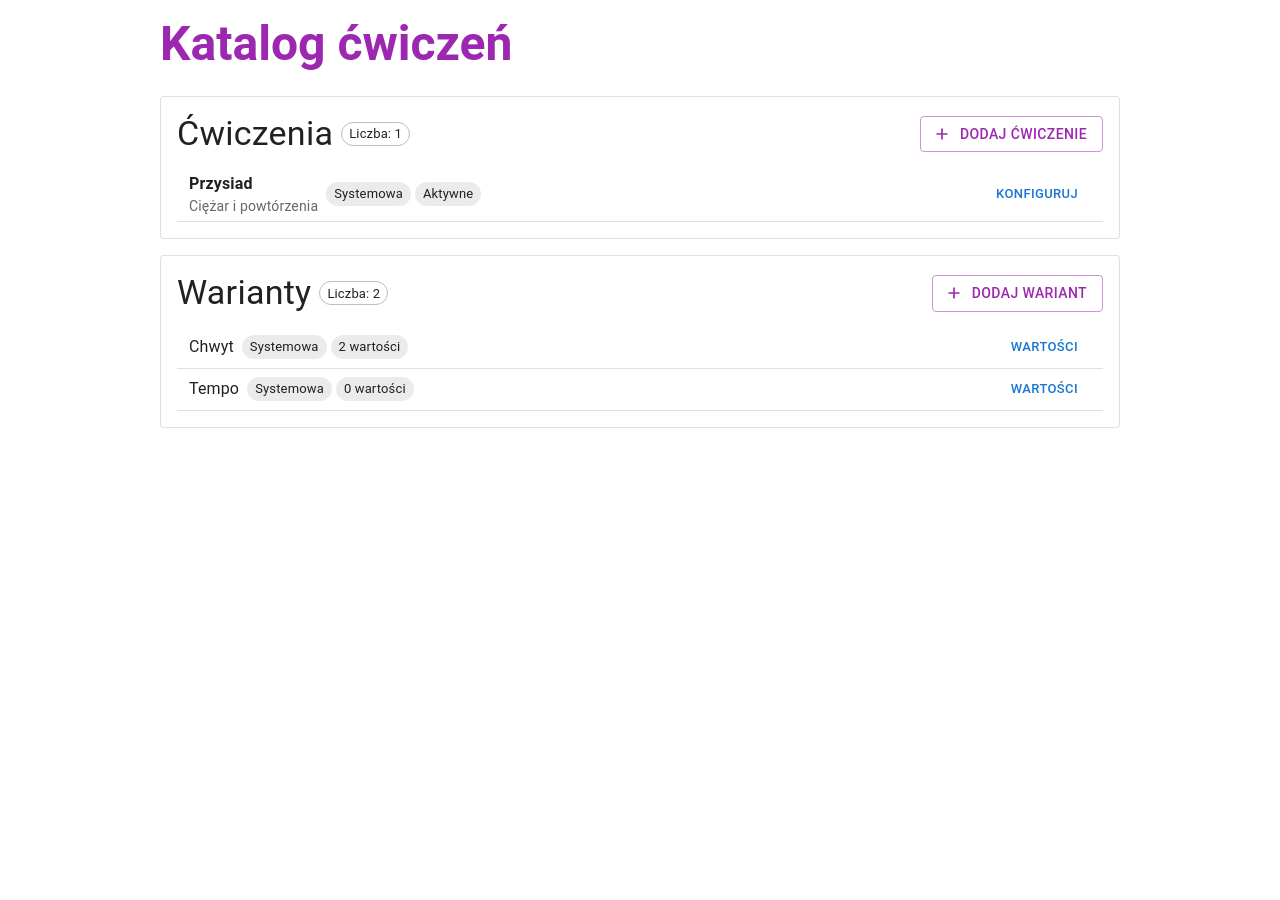
it: StrengthTrainingCatalogPage › nie wysyła pustej rodziny ćwiczeń i pokazuje błąd walidacji
Click the button "Dodaj ćwiczenie" at point(1011, 134), box x1=920 y1=116 x2=1103 y2=152
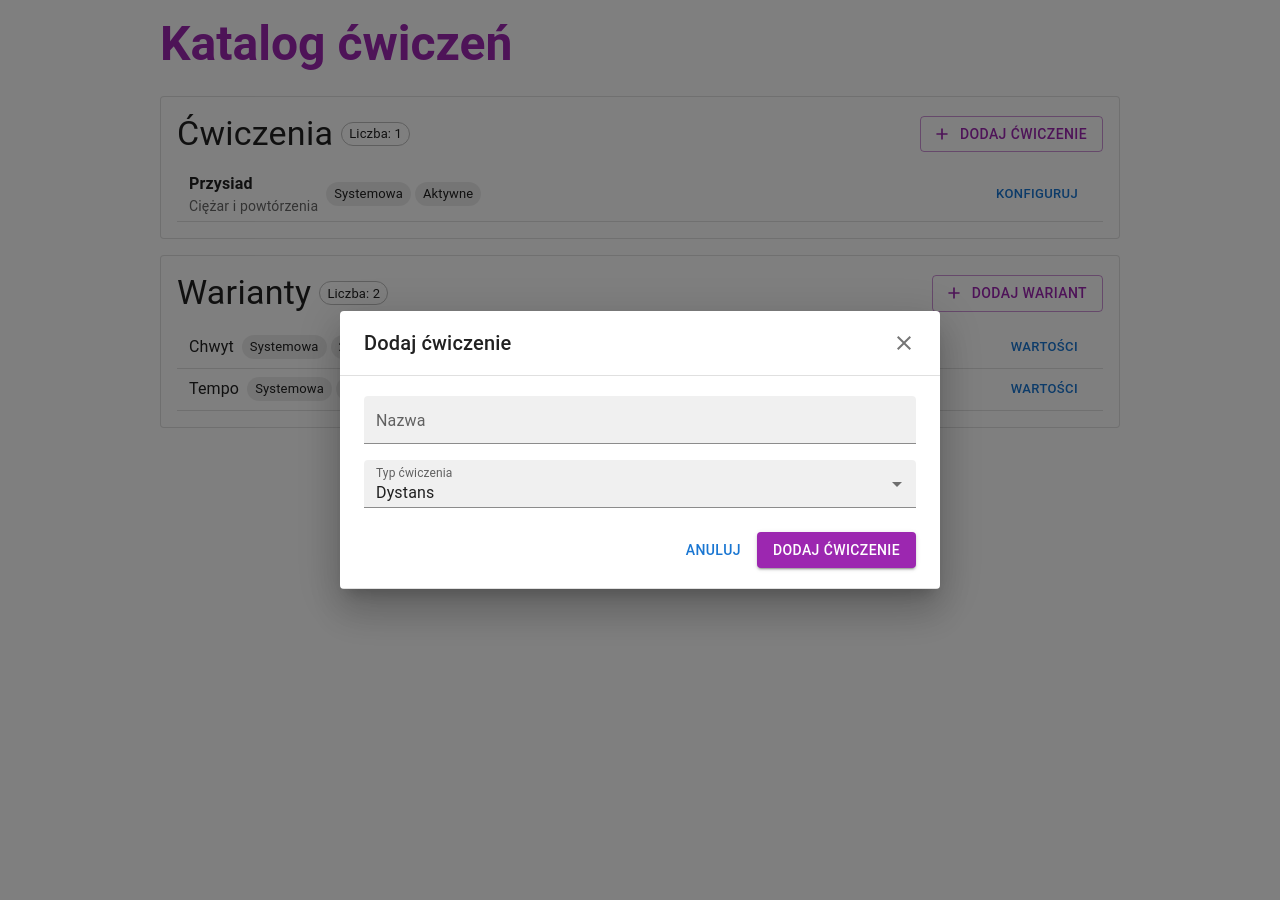
Click the button "Dodaj ćwiczenie" at point(836, 550), box x1=757 y1=532 x2=916 y2=568
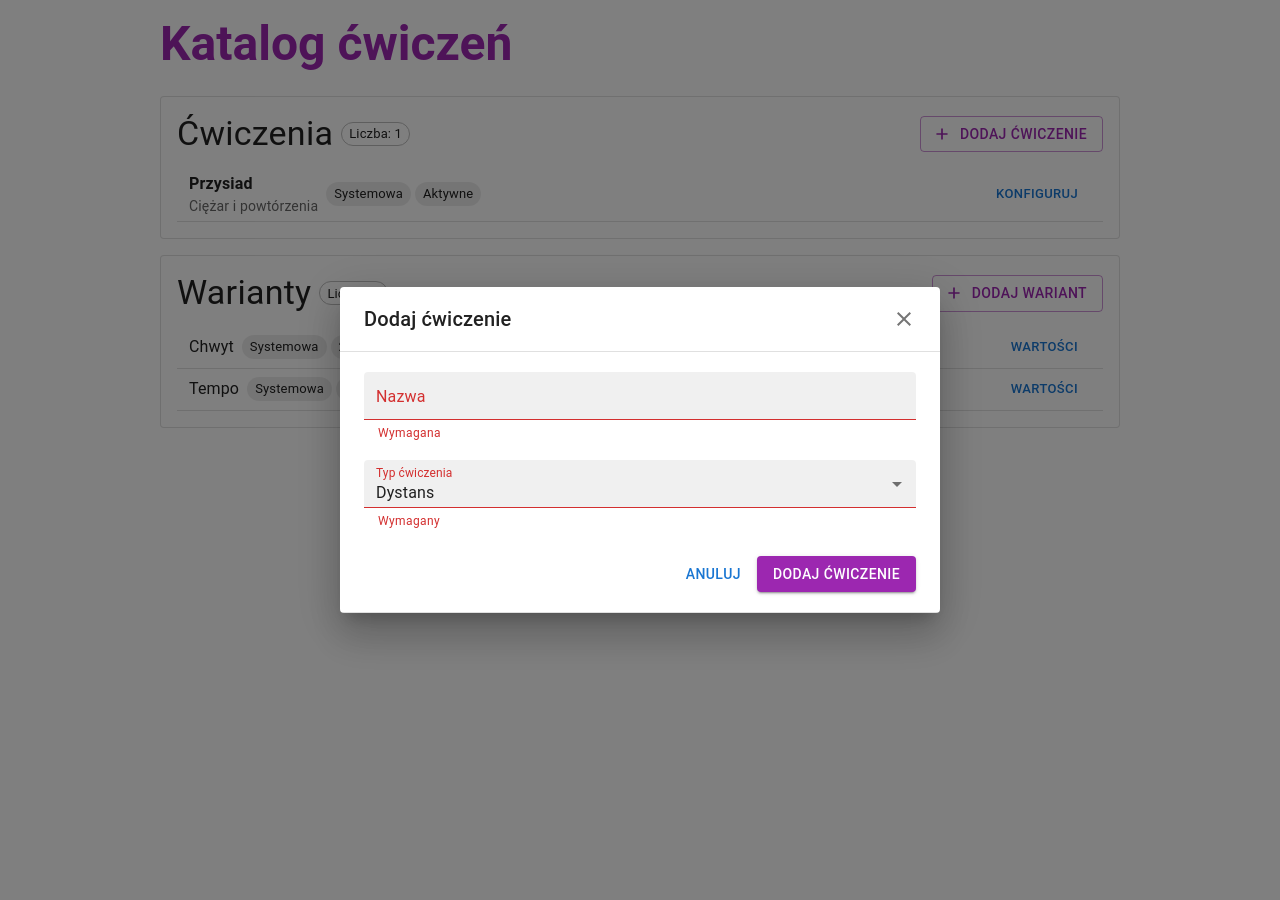
expect the text "Wymagana" is shown: met, box x1=378 y1=426 x2=441 y2=440
